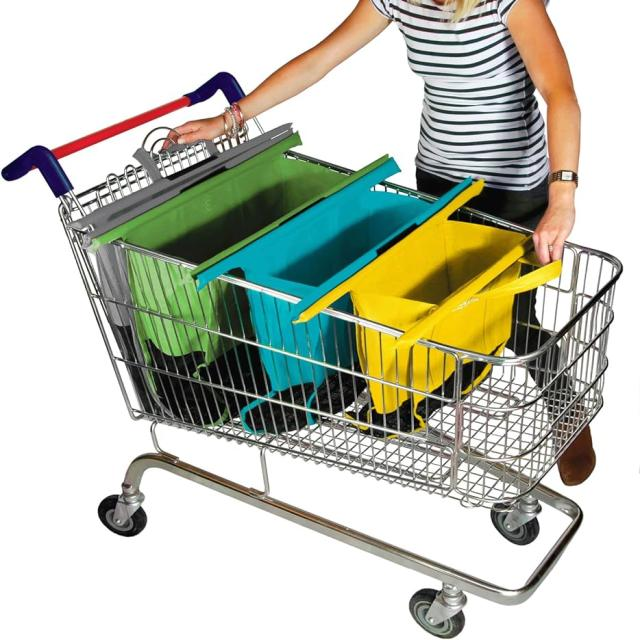Person: (160, 0, 598, 486)
